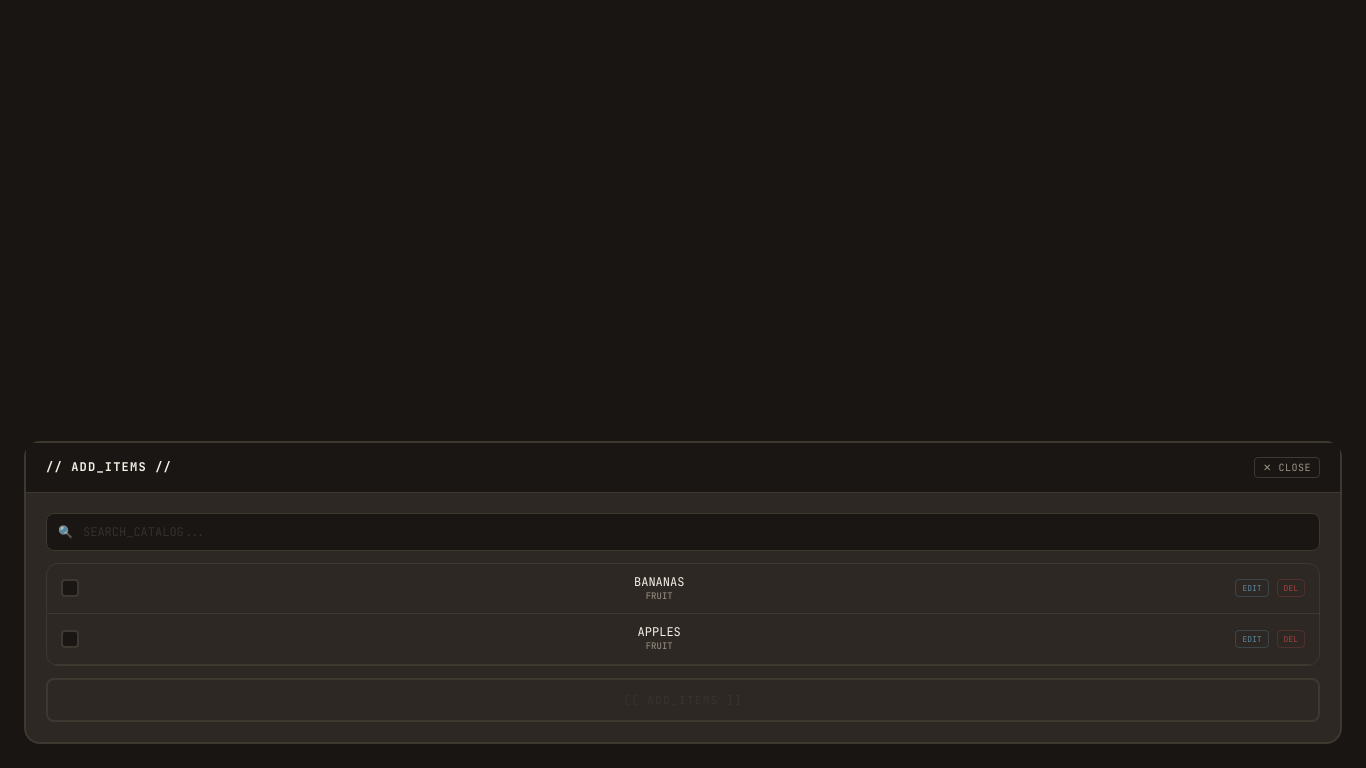
Test: AddItemsModal › shows ADD_TO_CATALOG button when search term not found
Type "ORANGES" into the field with placeholder "SEARCH_CATALOG...".
click(683, 532); type("ORANGES")  # box [46, 512, 1320, 550]
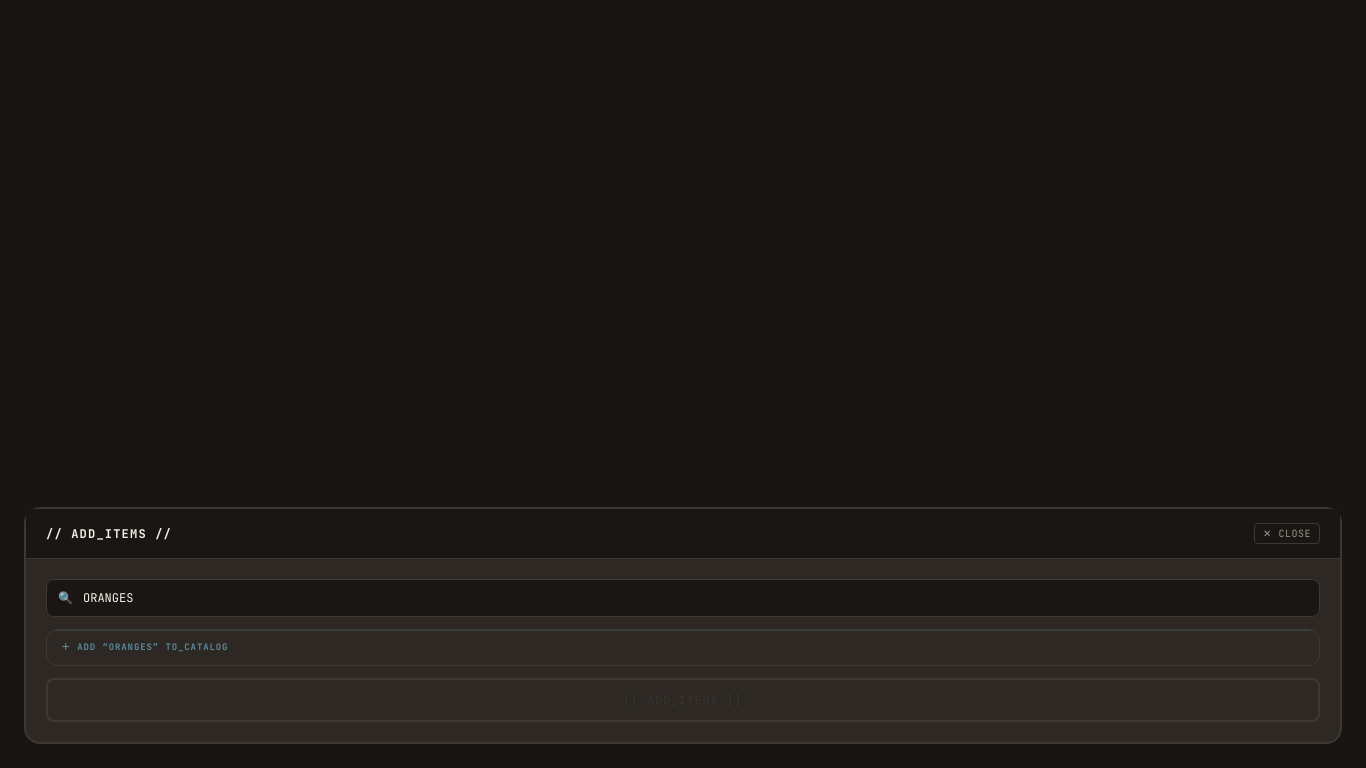
Check: the button "＋ ADD “ORANGES” TO_CATALOG" is shown, box [47, 630, 1319, 664]
